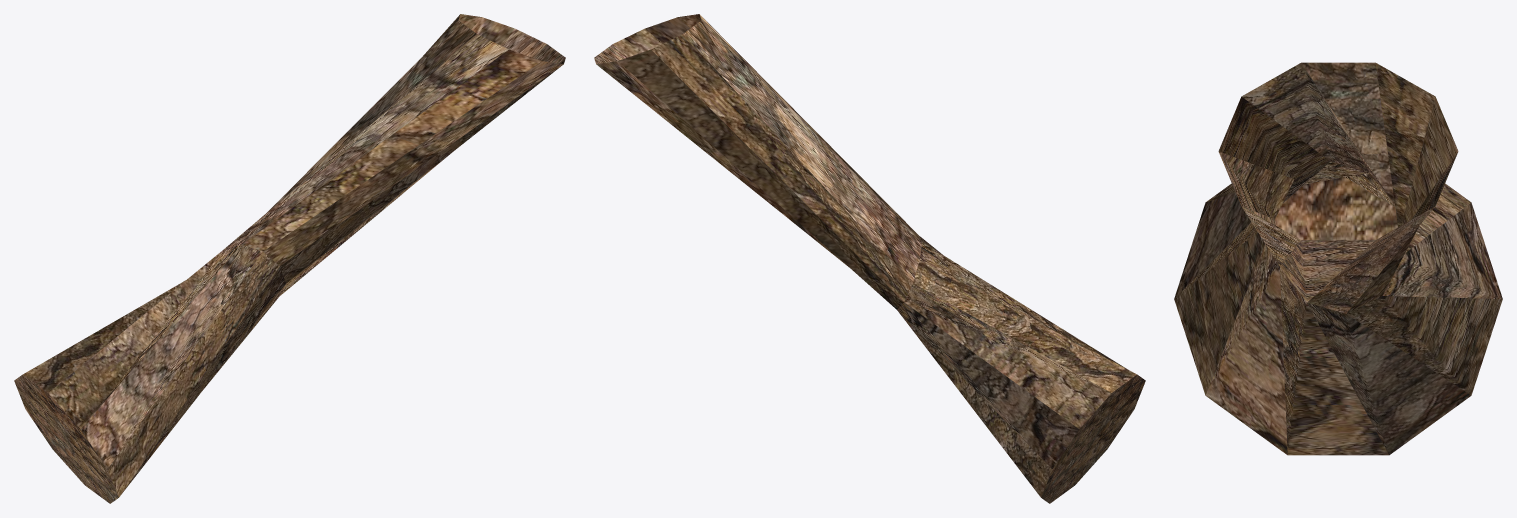
The model's file is forearm1.glb.
The picture shows the model from 3 angles, left to right: view 1: azimuth 30°, elevation 25°; view 2: azimuth 150°, elevation 25°; view 3: azimuth 270°, elevation 25°; orthographic projection. The views are drawn at different scales.
Visible parts, largest first — view 1: Cylinder.026; view 2: Cylinder.026; view 3: Cylinder.026.
Part boxes in pixels (x1,y1,x2,y2): Cylinder.026: (14,14,565,503); Cylinder.026: (594,14,1145,503); Cylinder.026: (1174,62,1502,455).
Size of what is drawn, in the model's own units: 6.51 by 4.5 by 1.78.
Materials: 1 (1 with a texture image).
